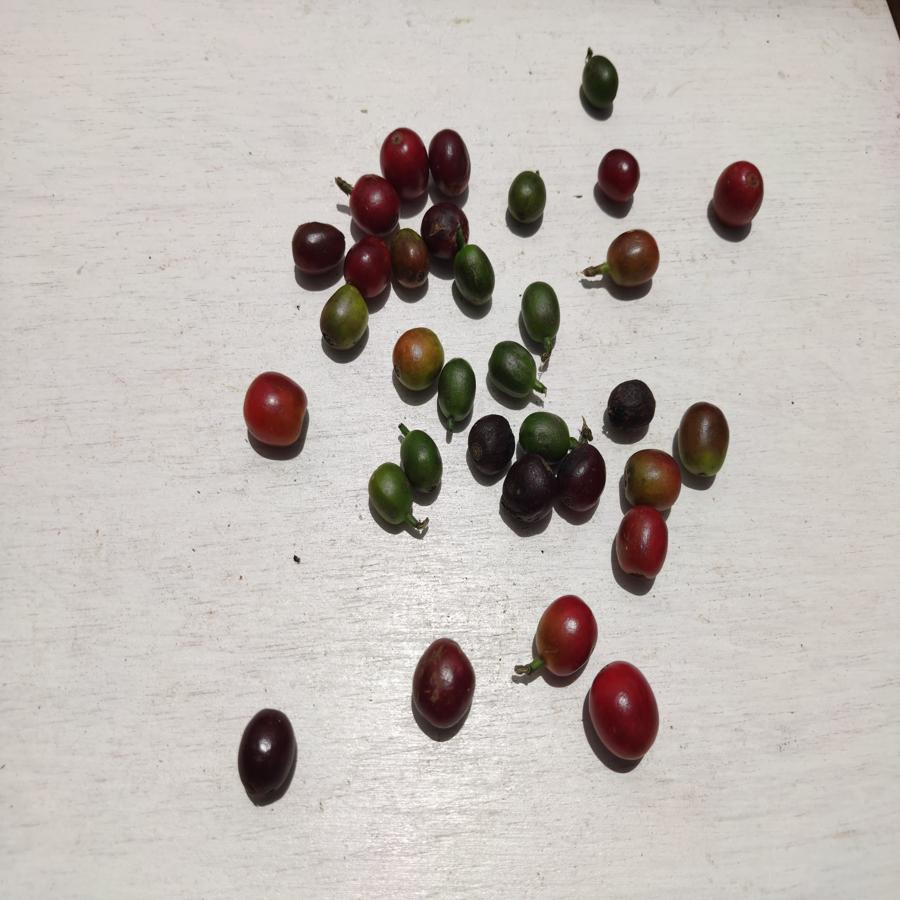Inmaduro: (487, 340, 539, 401), (366, 461, 414, 525), (399, 431, 447, 494), (518, 282, 561, 343), (438, 358, 475, 422), (506, 171, 548, 224), (579, 55, 621, 107), (520, 412, 571, 454)
Maduro: (587, 660, 660, 762), (530, 593, 600, 677), (242, 372, 308, 447), (614, 508, 667, 582), (711, 159, 765, 229), (380, 126, 427, 202), (349, 176, 398, 233), (346, 238, 391, 288)
Pinton: (677, 403, 730, 479), (622, 447, 681, 507), (605, 229, 662, 287), (320, 289, 371, 350), (393, 328, 438, 390), (394, 232, 433, 289)
Sobremaduro: (409, 638, 476, 734), (238, 708, 296, 797), (501, 459, 556, 522), (556, 449, 608, 512), (293, 218, 346, 275), (468, 411, 515, 475), (431, 128, 471, 198), (593, 146, 641, 204), (606, 377, 656, 432), (421, 202, 471, 242)
